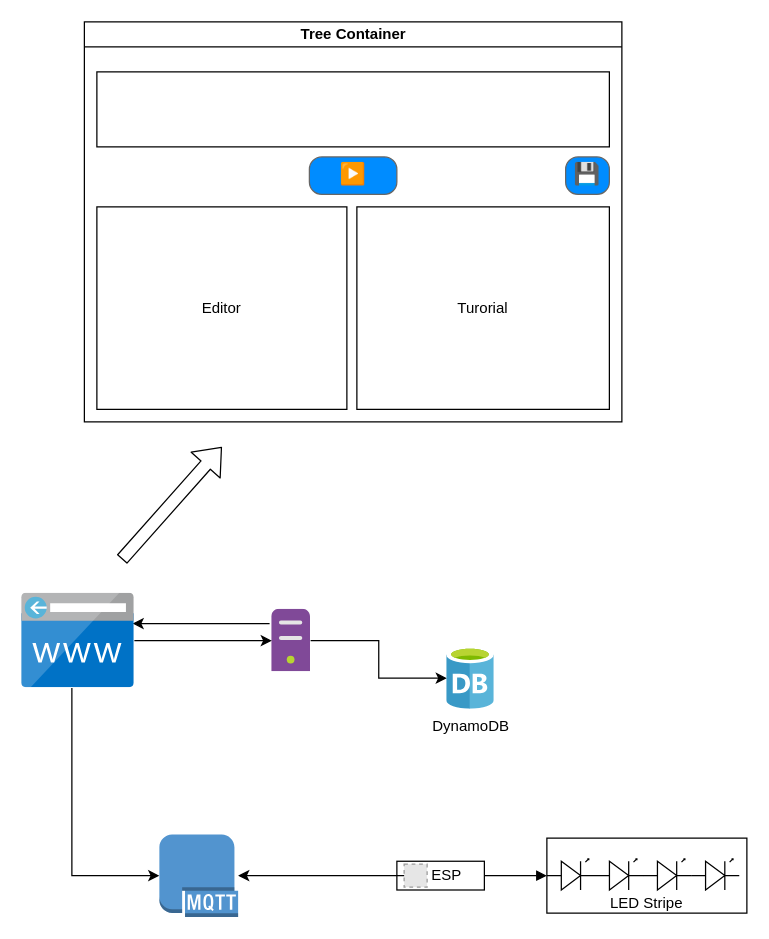
This 769x939 diagram has some shape labels left out. Grey dashed boxes stand in for pictures. Each missing label, with the centre of its shape:
"CF" belongs at pixel 290 640.
"LED Simulator" belongs at pixel 352 109.
